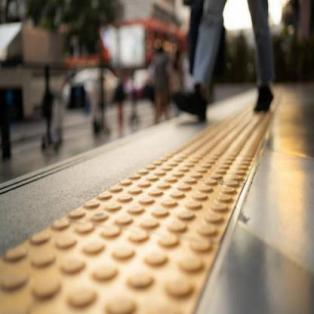Podoctatil: (1, 122, 267, 310)
